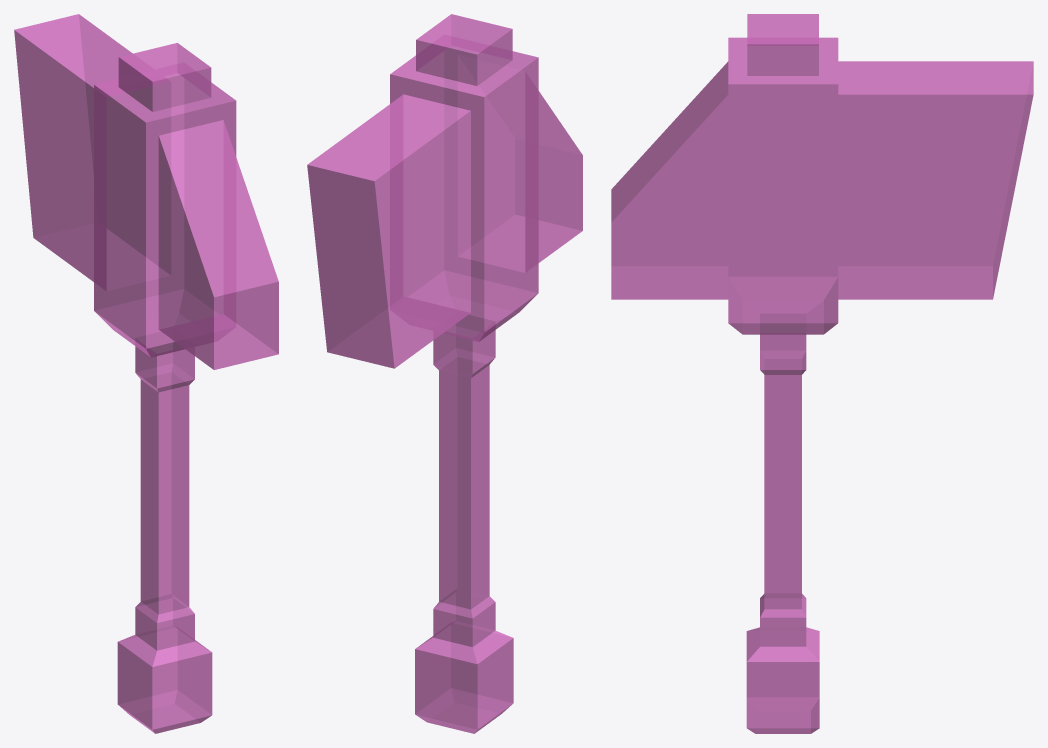
File: weapon.fbx
The picture shows the model from 3 angles, left to right: view 1: azimuth 30°, elevation 25°; view 2: azimuth 150°, elevation 25°; view 3: azimuth 270°, elevation 25°; orthographic projection. The views are drawn at different scales.
Parts seen in each view (by area): view 1: weapon; view 2: weapon; view 3: weapon.
Part boxes in pixels (box(x1,y1,x2,y2)): weapon: box(14, 14, 278, 733); weapon: box(307, 14, 582, 733); weapon: box(611, 14, 1033, 733).
Size of the model in its own units: 1.51 by 10.46 by 5.77.
